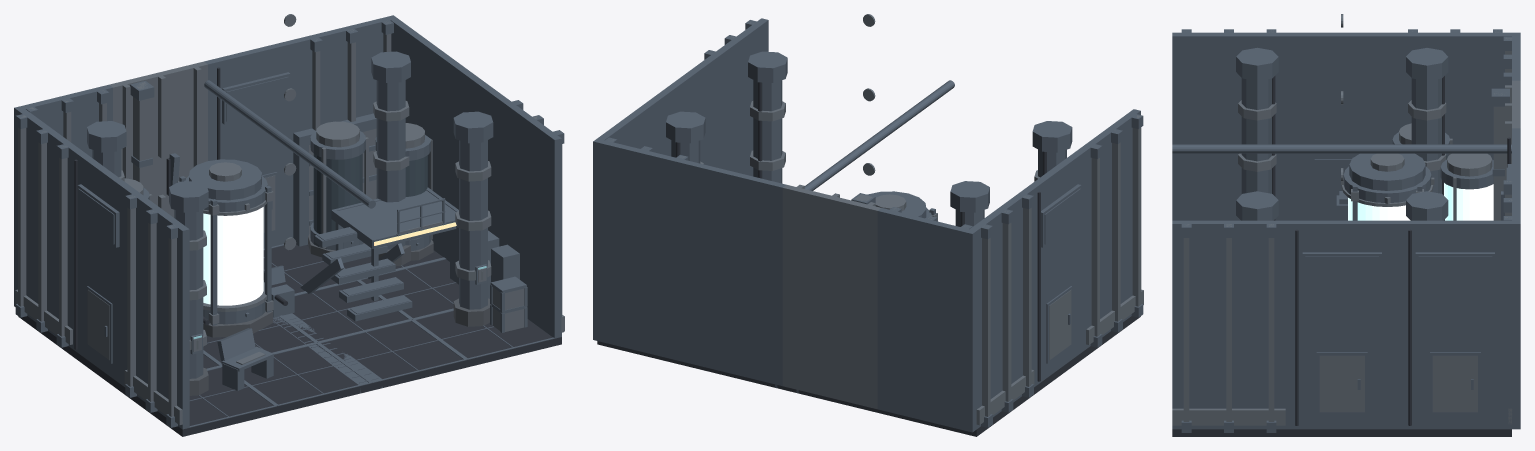
The model's file is Lab_Environment_Production.fbx.
3 renders of one model, left to right at view 1: azimuth 30°, elevation 25°; view 2: azimuth 150°, elevation 25°; view 3: azimuth 270°, elevation 25°, orthographic. The views are drawn at different scales.
Parts seen in each view (by area): view 1: Wall_Left_0, Aeron_Chamber, Wall_Right_0, Wall_Left_2, Wall_Back_2, Wall_Left_1, Wall_Back_1, Wall_Back_3, Pillar_Right_Front, Floor_Plate_2_0, Wall_Right_2, Pillar_Right_Back (+25 smaller); view 2: Wall_Back_0, Wall_Back_1, Wall_Back_3, Wall_Back_2, Wall_Left_2, Wall_Left_0, Wall_Left_1, Wall_Right_0, Pillar_Right_Front, Wall_Right_1, Overhead_Pipes, Wall_Right_2 (+5 smaller); view 3: Wall_Right_0, Wall_Right_1, Wall_Right_2, Wall_Left_1, Wall_Left_0, Wall_Left_2, Pillar_B3_Left, Aeron_Chamber, Pillar_A7_Left, Overhead_Pipes, Containment_01, Wall_Back_3 (+11 smaller).
Part boxes in pixels (x1,y1,x2,y2): Wall_Left_0: (124, 189, 189, 429); Aeron_Chamber: (177, 159, 294, 337); Wall_Right_0: (500, 98, 564, 337); Wall_Left_2: (15, 109, 79, 348); Wall_Back_2: (204, 38, 302, 248); Wall_Left_1: (73, 149, 134, 386); Wall_Back_1: (109, 61, 207, 217); Wall_Back_3: (299, 15, 397, 130); Pillar_Right_Front: (453, 111, 493, 326); Floor_Plate_2_0: (318, 319, 466, 390); Wall_Right_2: (390, 18, 451, 257); Pillar_Right_Back: (371, 51, 410, 266); Wall_Back_0: (877, 207, 976, 432); Wall_Back_1: (782, 184, 880, 409); Wall_Back_3: (593, 137, 691, 362); Wall_Back_2: (688, 161, 786, 385); Wall_Left_2: (970, 189, 1034, 428); Wall_Left_0: (1079, 109, 1143, 348); Wall_Left_1: (1024, 149, 1085, 387); Wall_Right_0: (704, 18, 768, 176); Pillar_Right_Front: (748, 51, 787, 183); Wall_Right_1: (652, 58, 713, 166); Overhead_Pipes: (804, 14, 954, 190); Wall_Right_2: (597, 98, 658, 153); Wall_Right_0: (1172, 220, 1285, 432); Wall_Right_1: (1285, 220, 1398, 429); Wall_Right_2: (1399, 220, 1511, 429); Wall_Left_1: (1285, 32, 1398, 220); Wall_Left_0: (1172, 29, 1285, 220); Wall_Left_2: (1399, 29, 1511, 159); Pillar_B3_Left: (1236, 47, 1278, 220); Aeron_Chamber: (1341, 153, 1434, 220); Pillar_A7_Left: (1406, 48, 1448, 195); Overhead_Pipes: (1172, 14, 1511, 181); Containment_01: (1440, 153, 1493, 220); Wall_Back_3: (1503, 176, 1520, 429).
Size of the model in its own units: 16.59 by 12.79 by 12.3.
